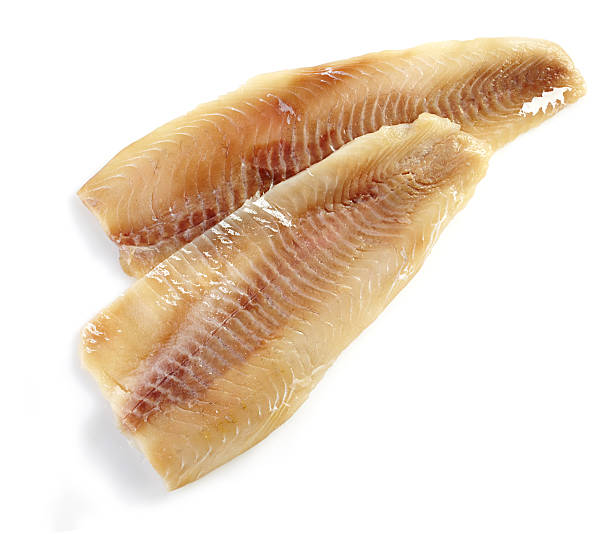bream-fish: (75, 114, 498, 493)
